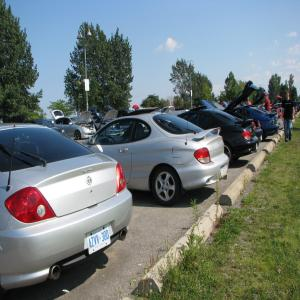Vehicle-registration-plate: (87, 226, 111, 255)
